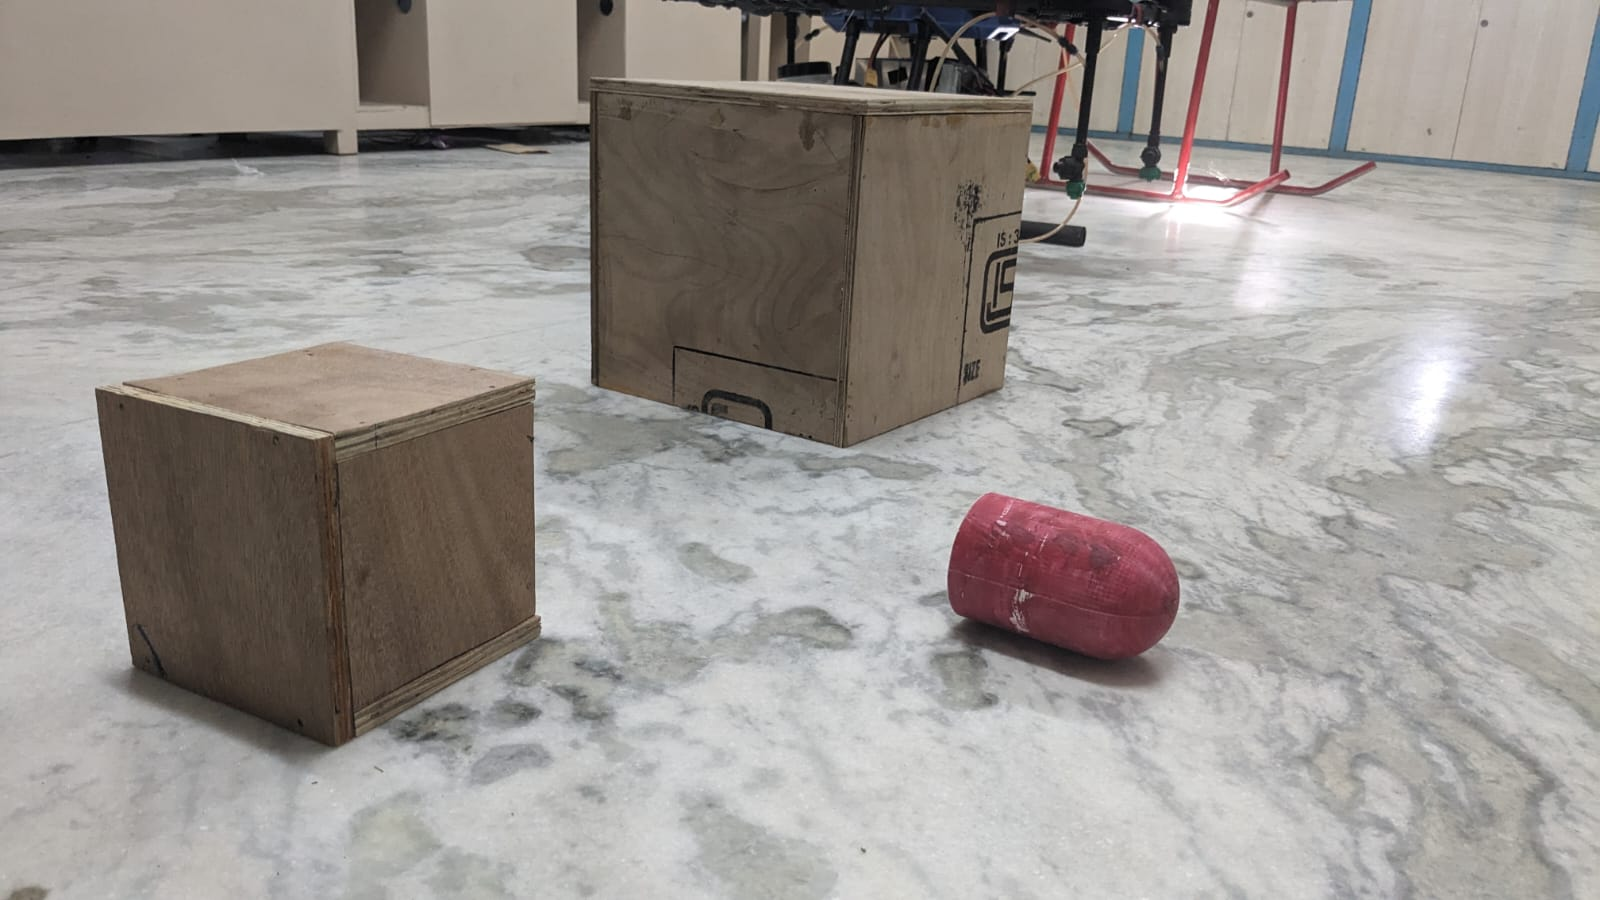150mm obstacle: (85, 333, 567, 740)
300mm obstacle: (573, 54, 1027, 444)
tes: (946, 484, 1189, 673)
testtube: (924, 474, 1197, 671)
